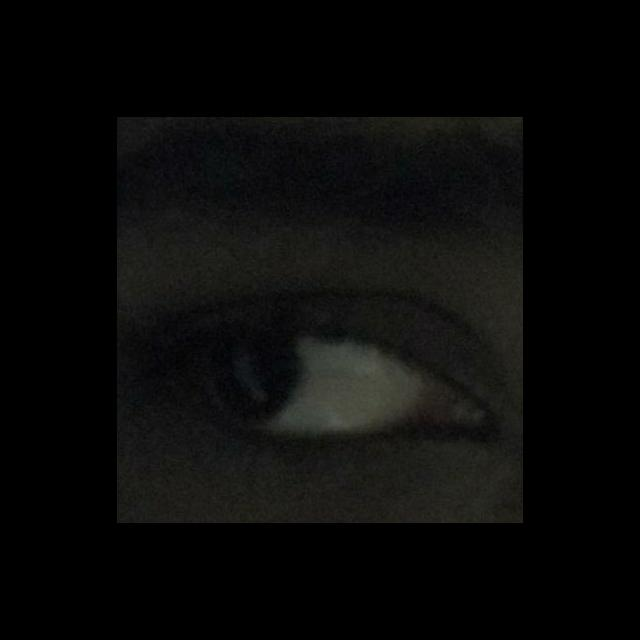eye: (193, 333, 428, 438)
iris: (208, 339, 304, 423)
